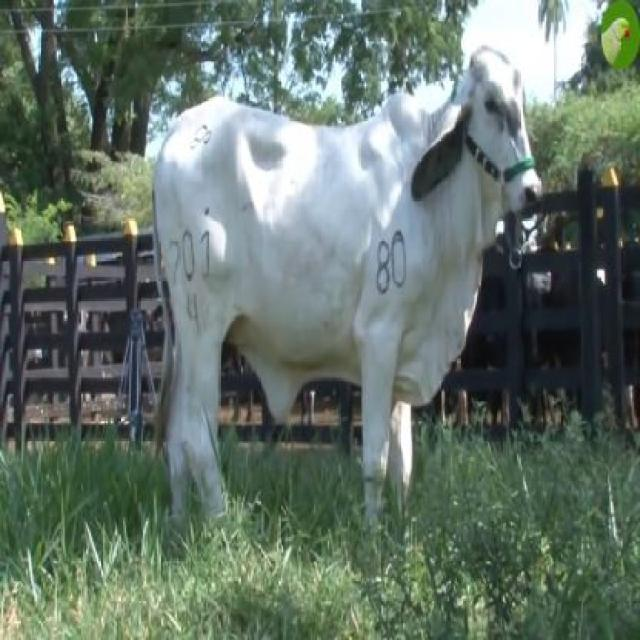Cow: (154, 49, 540, 554)
